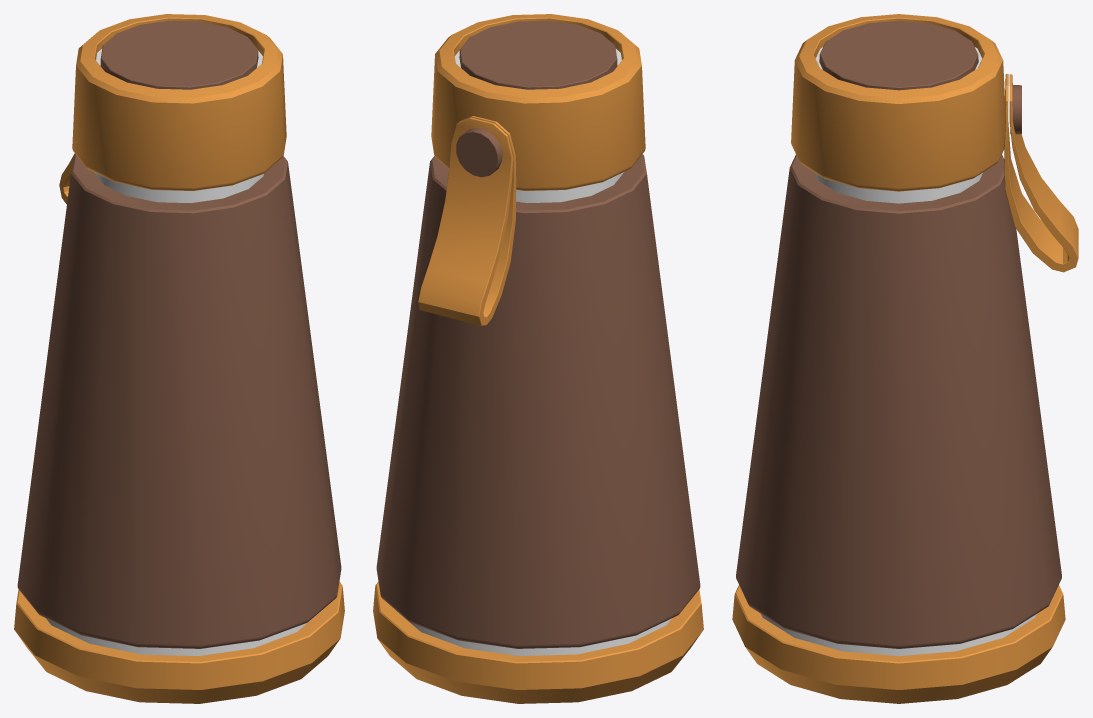
File: Bouteille.fbx
The picture shows the model from 3 angles, left to right: view 1: azimuth 30°, elevation 25°; view 2: azimuth 150°, elevation 25°; view 3: azimuth 270°, elevation 25°; orthographic projection.
Parts seen in each view (by area): view 1: Cylinder; view 2: Cylinder; view 3: Cylinder.
Boxes of the visible parts, box(x1,y1,x2,y2) form: Cylinder: box(14, 14, 344, 703); Cylinder: box(373, 14, 703, 703); Cylinder: box(732, 14, 1078, 703).
Bounding box in the file's own units: 69.42 × 136 × 72.12.
